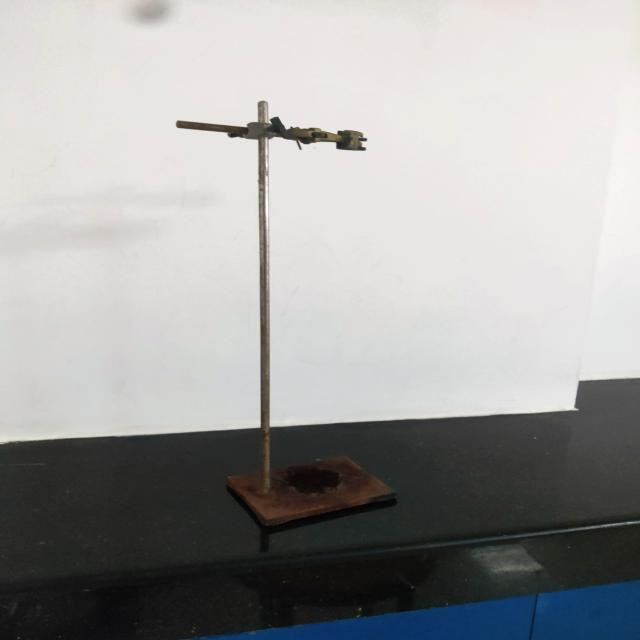Burette_Stands: (126, 72, 441, 558)
